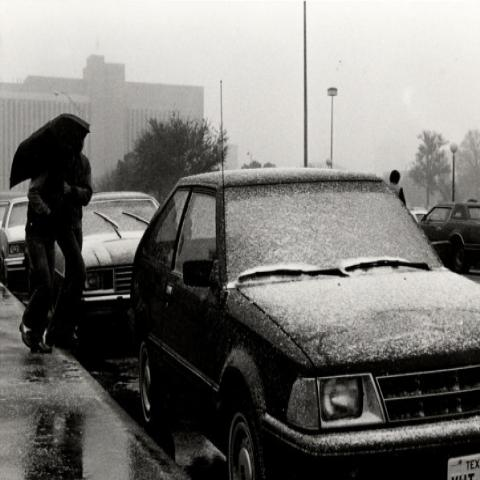car: (129, 161, 479, 473), (74, 185, 160, 399), (418, 200, 480, 277), (1, 196, 29, 292), (410, 206, 428, 222)
